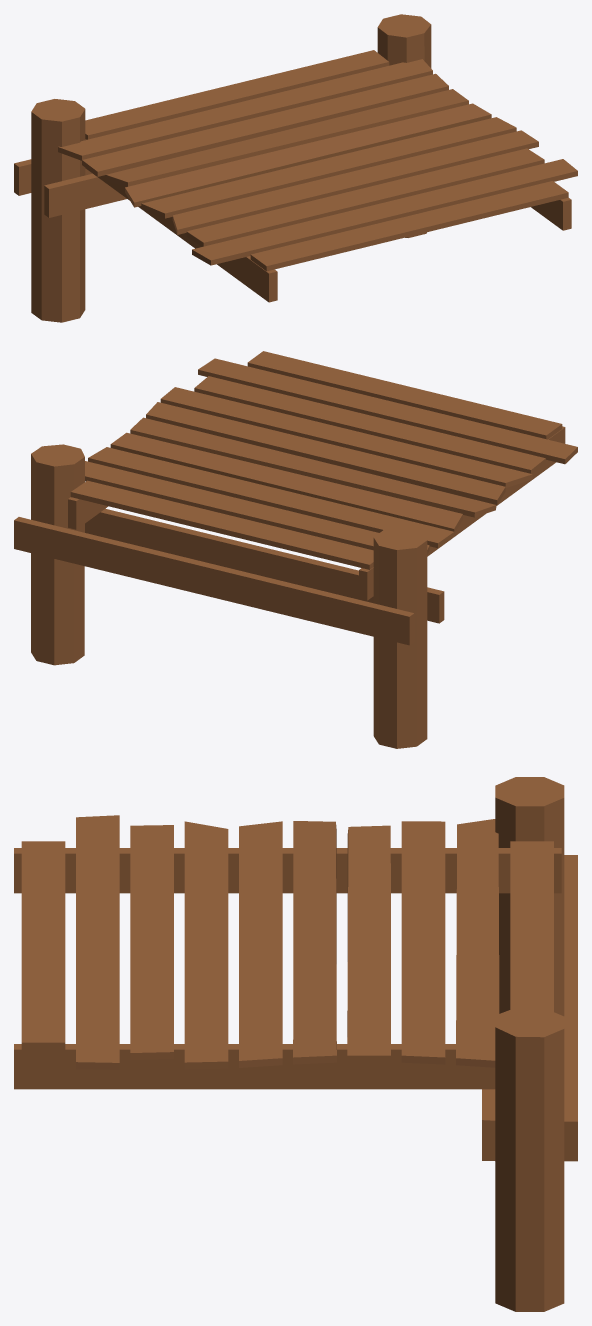
File: Crocked Dock Attach 2.fbx
The picture shows the model from 3 angles, top to bottom: view 1: azimuth 30°, elevation 25°; view 2: azimuth 150°, elevation 25°; view 3: azimuth 270°, elevation 25°; orthographic projection. The views are drawn at different scales.
Visible parts, largest first — view 1: Crocked Dock Attach 2; view 2: Crocked Dock Attach 2; view 3: Crocked Dock Attach 2.
Part boxes in pixels (x1=…): Crocked Dock Attach 2: x1=14, y1=14, x2=577, y2=322; Crocked Dock Attach 2: x1=14, y1=351, x2=577, y2=748; Crocked Dock Attach 2: x1=14, y1=777, x2=577, y2=1311.
Bounding box in the file's own units: 407 × 195 × 364.
